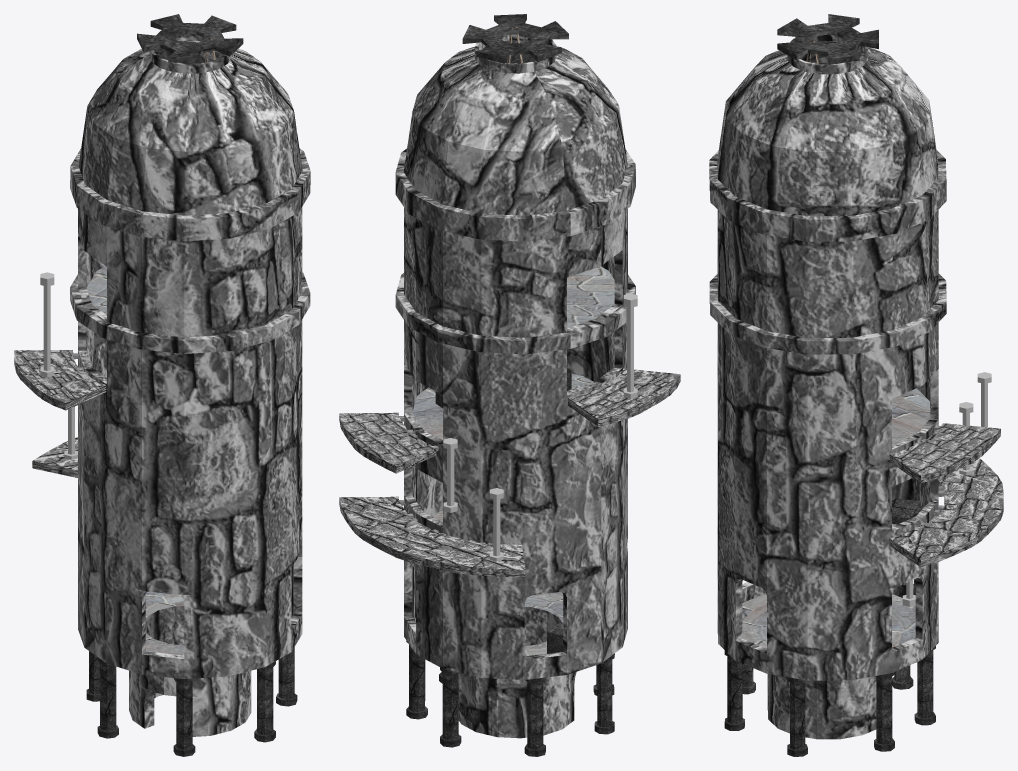
File: TORRE 2.fbx
3 renders of one model, left to right at view 1: azimuth 30°, elevation 25°; view 2: azimuth 150°, elevation 25°; view 3: azimuth 270°, elevation 25°, orthographic.
Visible parts, largest first — view 1: paredes, colunas, chaoPlataformafora3, engrenagem e sobe e desce, chaoPlataformafora, rotatePilar__4_, chao3comPlataforma; view 2: paredes, chaoPlataformafora, colunas, chaoPlataformafora2, chaoPlataformafora3, engrenagem e sobe e desce, chao3comPlataforma, chao2, rotatePilar__4_, rotatePilar__6_, rotatePilar__5_; view 3: paredes, chaoPlataformafora, colunas, chaoPlataformafora2, engrenagem e sobe e desce, chao2, plaquinha5.
Boxes of the visible parts, x1,y1,x2,y2 form: paredes: (70,34,310,736); colunas: (86,647,297,756); chaoPlataformafora3: (14,350,106,410); engrenagem e sobe e desce: (137,14,243,63); chaoPlataformafora: (32,437,77,477); rotatePilar__4_: (40,272,54,377); chao3comPlataforma: (86,266,106,314); paredes: (395,34,635,738); chaoPlataformafora: (339,496,525,577); colunas: (406,640,614,756); chaoPlataformafora2: (339,412,438,473); chaoPlataformafora3: (568,368,680,426); engrenagem e sobe e desce: (462,14,568,63); chao3comPlataforma: (567,266,614,328); chao2: (412,373,593,439); rotatePilar__4_: (623,293,637,398); rotatePilar__6_: (443,438,457,512); rotatePilar__5_: (489,488,503,561); paredes: (709,34,946,739); chaoPlataformafora: (889,458,1003,567); colunas: (724,646,935,756); chaoPlataformafora2: (889,423,1000,483); engrenagem e sobe e desce: (777,14,878,64); chao2: (892,388,930,444); plaquinha5: (892,498,927,524).
Size of the model in its own units: 7999 by 18421 by 7250.
